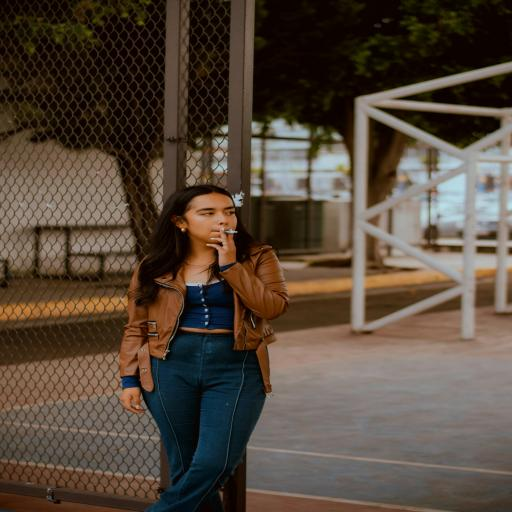terdeteksi merokok: (190, 193, 246, 243)
